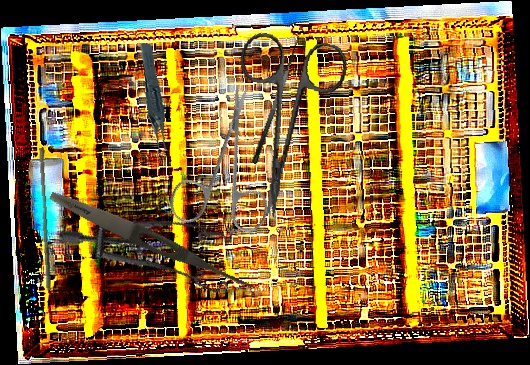Dressing Forceps: (46, 186, 260, 296)
Iris Scissors: (133, 81, 317, 263), (213, 29, 351, 226)
Pusher: (34, 147, 57, 291)
Spatula Surgical: (240, 31, 306, 165)
Speculum: (54, 176, 255, 341)
Tissue Forceps: (127, 42, 177, 161)
